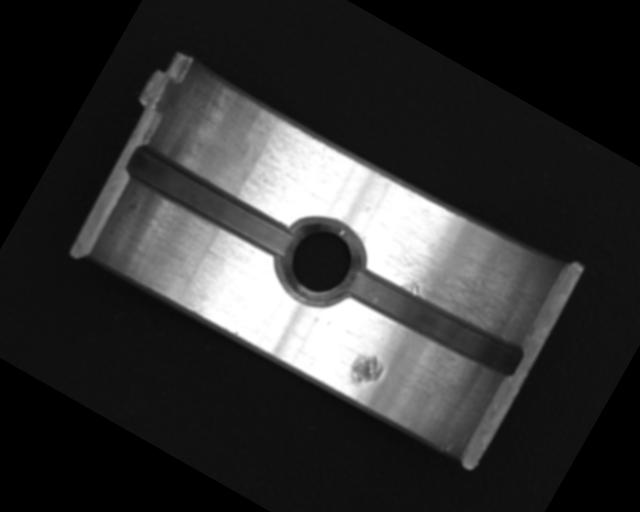bruise: (342, 347, 389, 396)
gap: (339, 253, 528, 387), (121, 140, 299, 263)
hole: (262, 201, 375, 319)
scratch: (359, 189, 546, 347)
